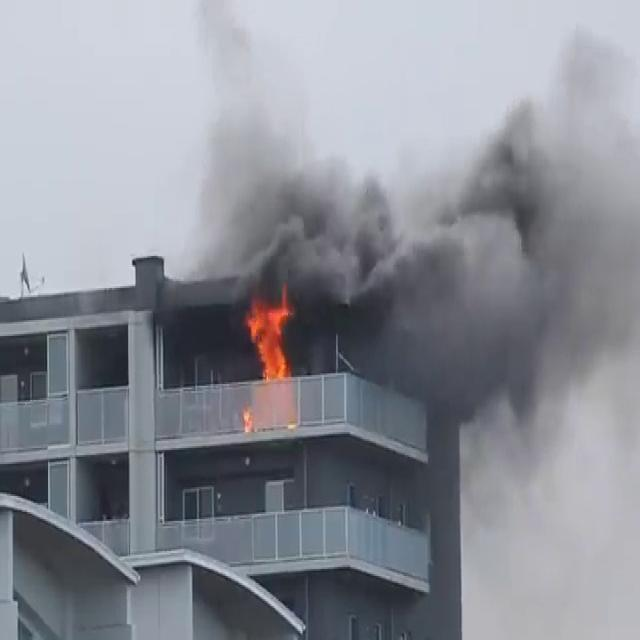Fire: (240, 284, 298, 382)
Smoke: (187, 90, 640, 420)
